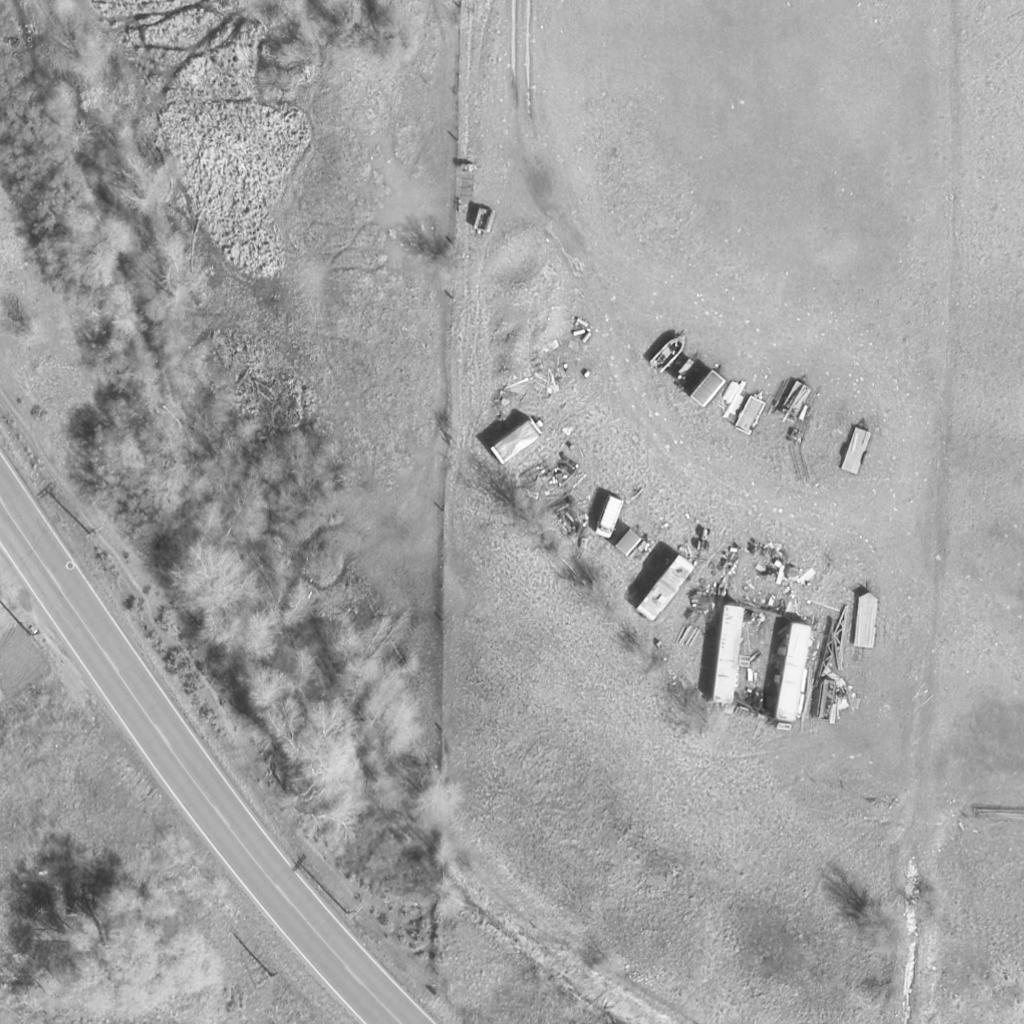vehicle: (635, 555, 695, 623), (493, 421, 539, 465), (648, 334, 690, 374), (599, 495, 623, 543)
